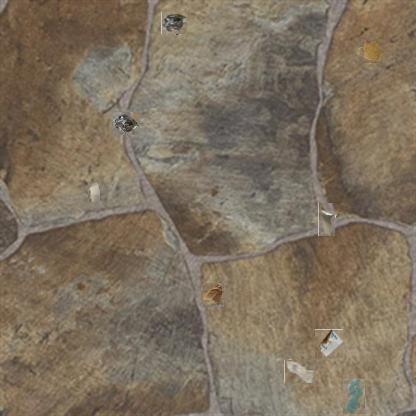dirty: (315, 329, 343, 358), (284, 359, 315, 383), (112, 111, 140, 135), (314, 207, 340, 232), (163, 11, 187, 36), (201, 284, 225, 306), (88, 182, 100, 202)
liquid: (343, 380, 365, 416), (355, 38, 381, 64)
